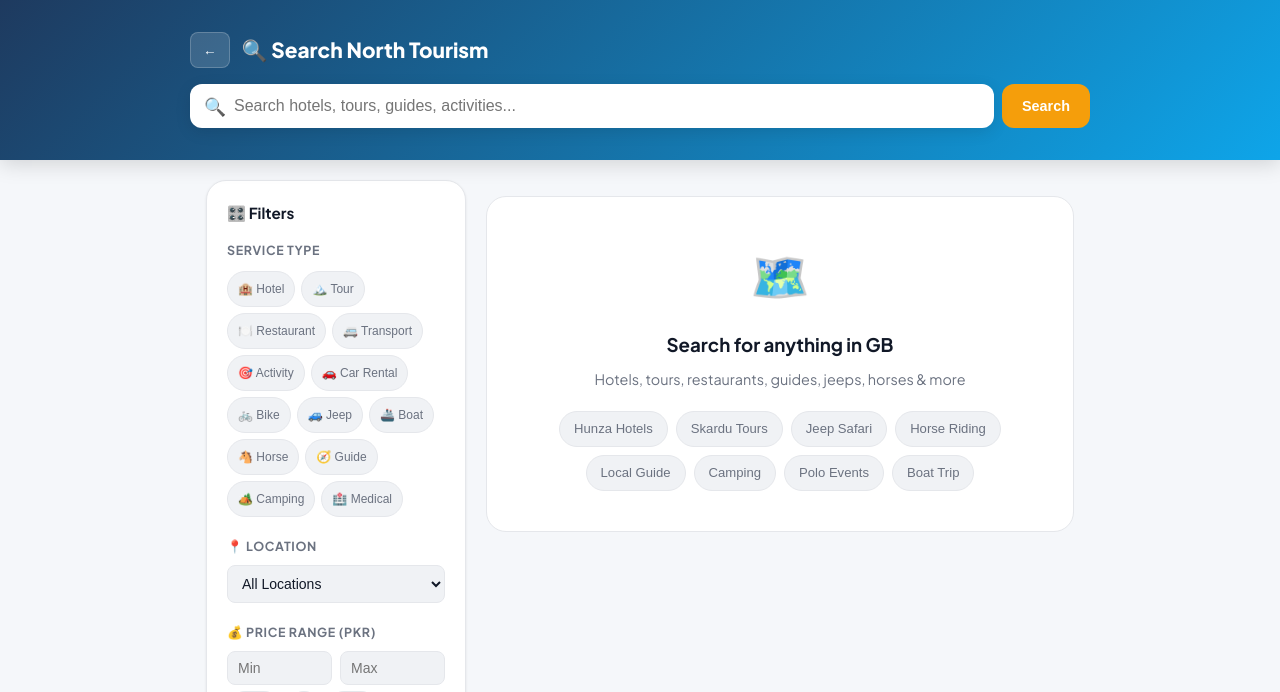
Test case: Search page › shows loading state while searching
The image size is (1280, 692).
Click the button "Search". click: [1046, 106]
box: [1002,84,1090,128]
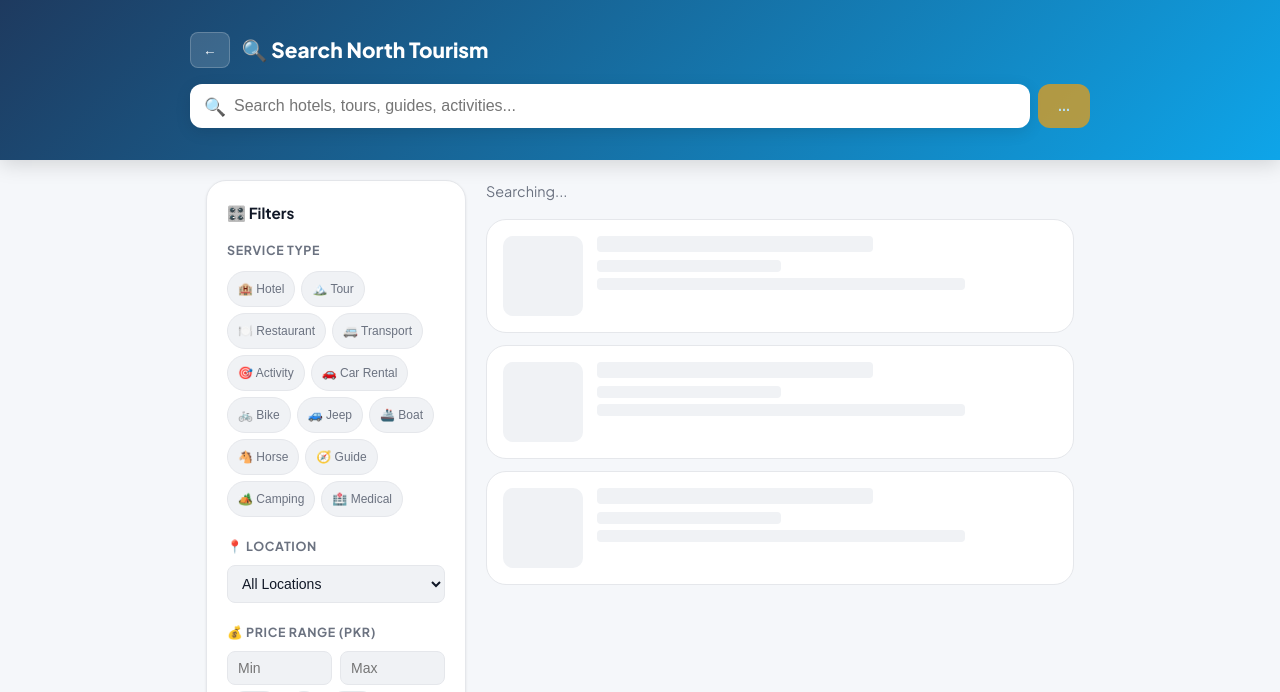
Check: the text "Searching..." is shown, box [486,182,567,200]
